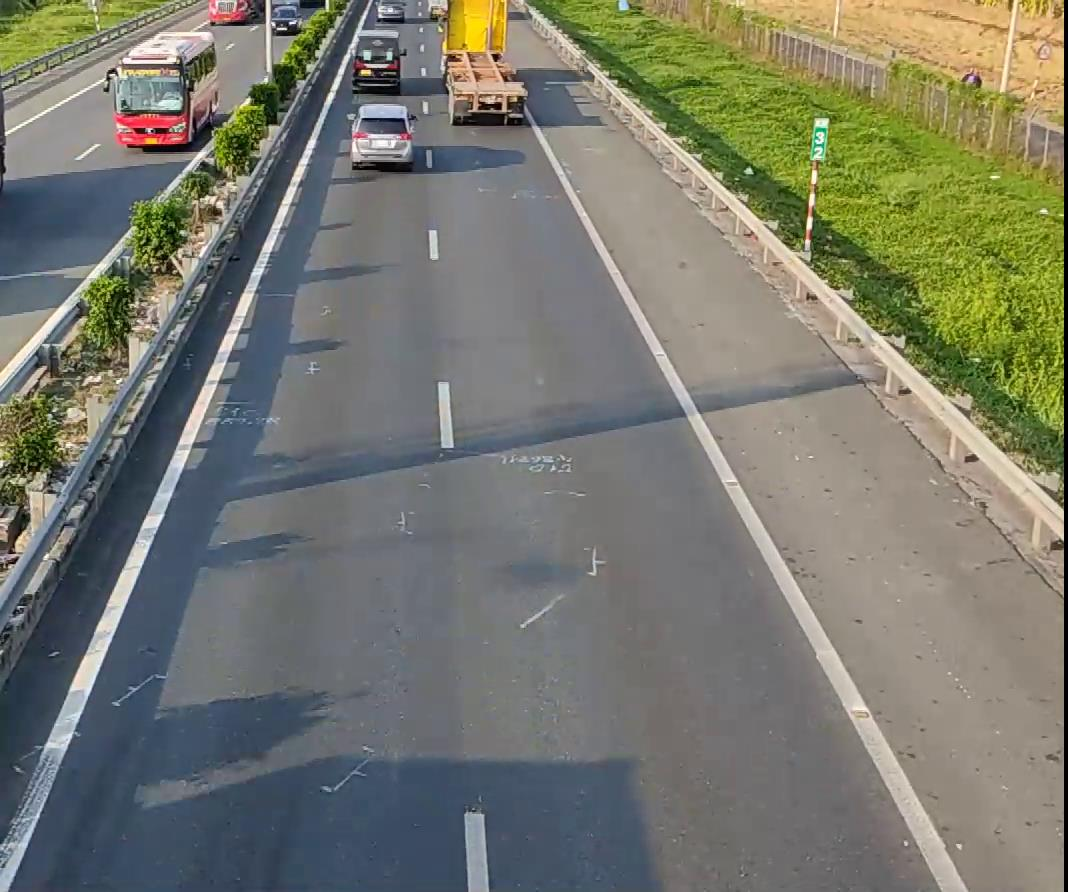bus: (109, 29, 218, 147)
car: (347, 100, 415, 168)
container: (444, 0, 531, 123)
